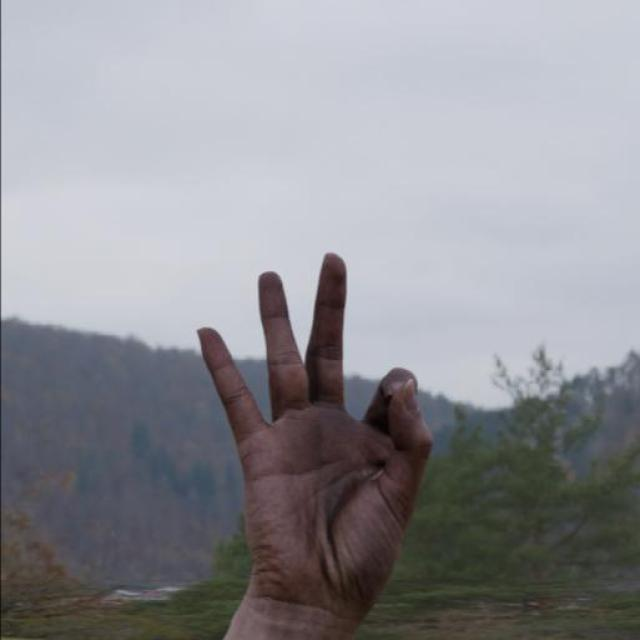F: (190, 248, 436, 596)
